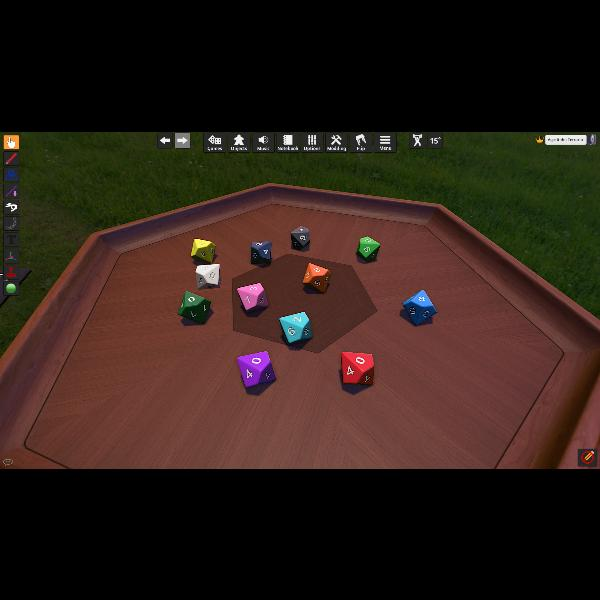d10: (236, 350, 276, 386), (401, 289, 435, 325), (178, 291, 212, 324), (342, 351, 374, 385), (280, 311, 310, 343), (238, 282, 268, 312), (302, 262, 328, 292), (195, 262, 219, 288), (190, 238, 215, 262), (358, 235, 380, 261), (250, 240, 272, 264), (290, 226, 310, 250)
